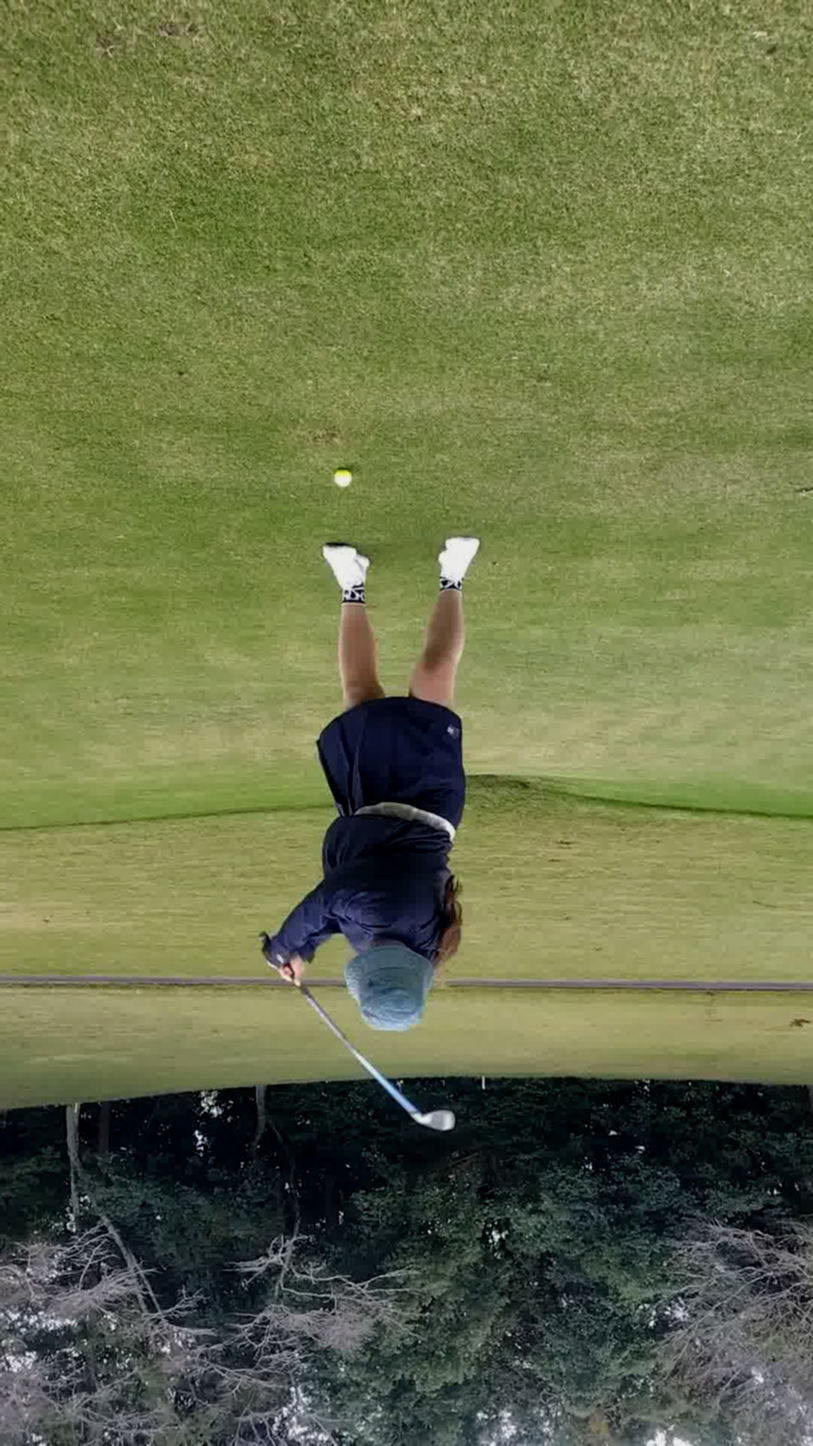clubhead: (315, 1059, 554, 1177)
